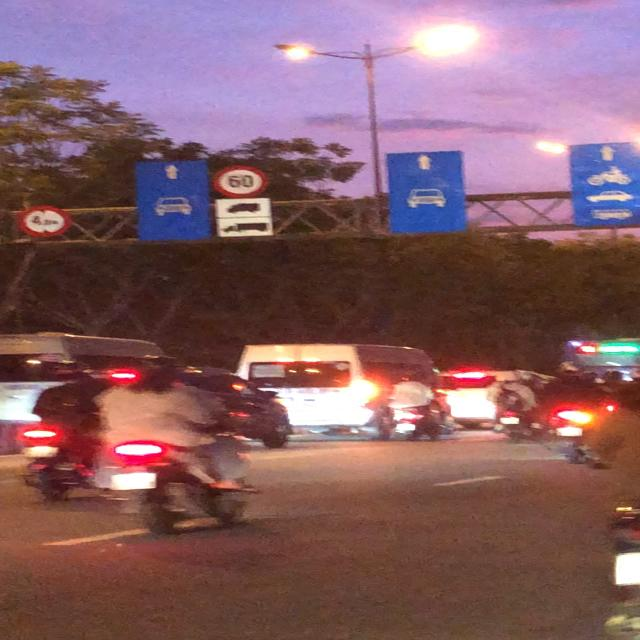Bien bao han che chieu cao: (16, 204, 76, 239)
Bien bao toc do toi da cho phep: (211, 164, 271, 198)
